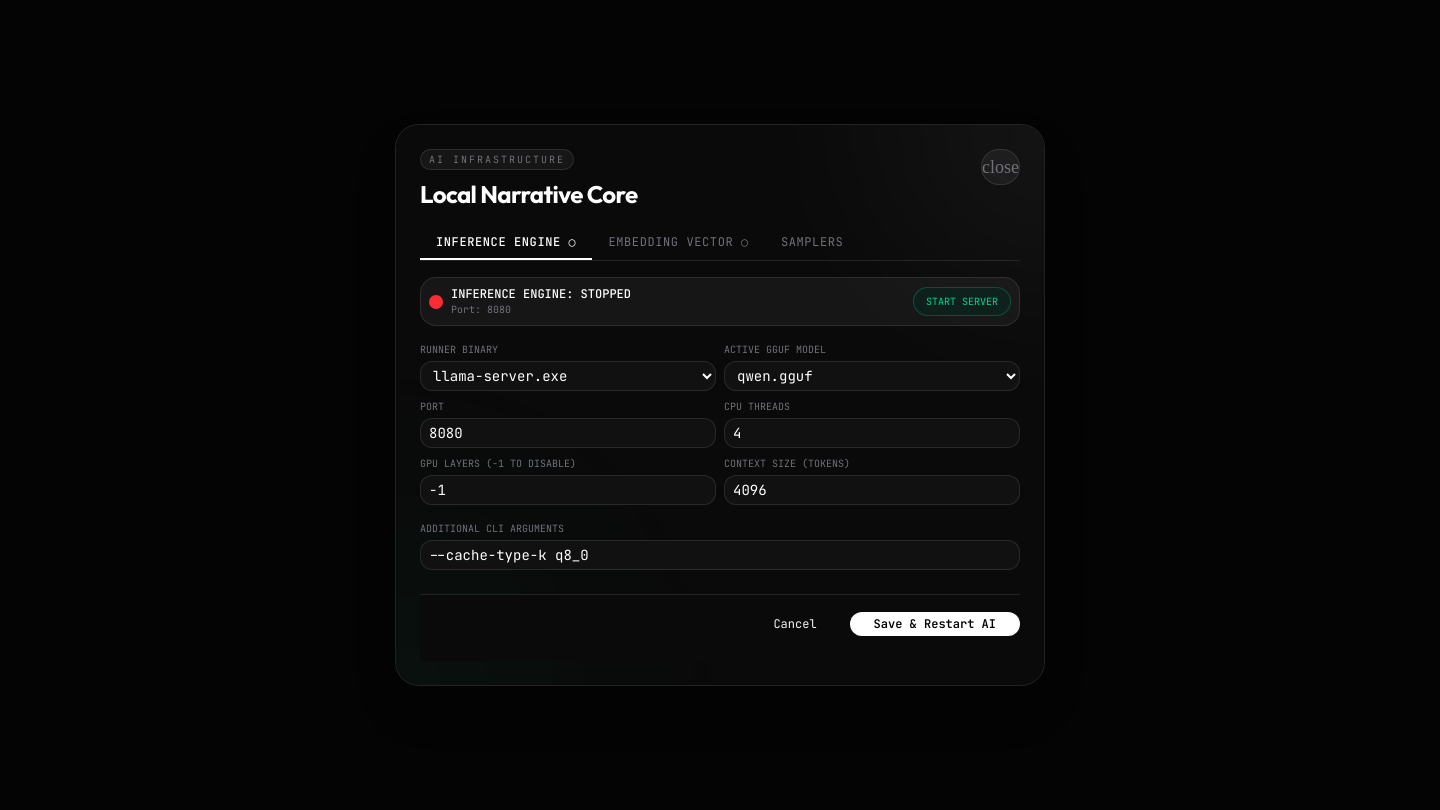
SettingsModal › Save & Restart flow › shows the backend error message when saving fails with an Error
Expected: the text "Inference Engine: STOPPED" is shown, left=451, top=286, right=631, bottom=302
Step 1. Click the button "Save & Restart AI" → (935, 624), box left=850, top=612, right=1020, bottom=636
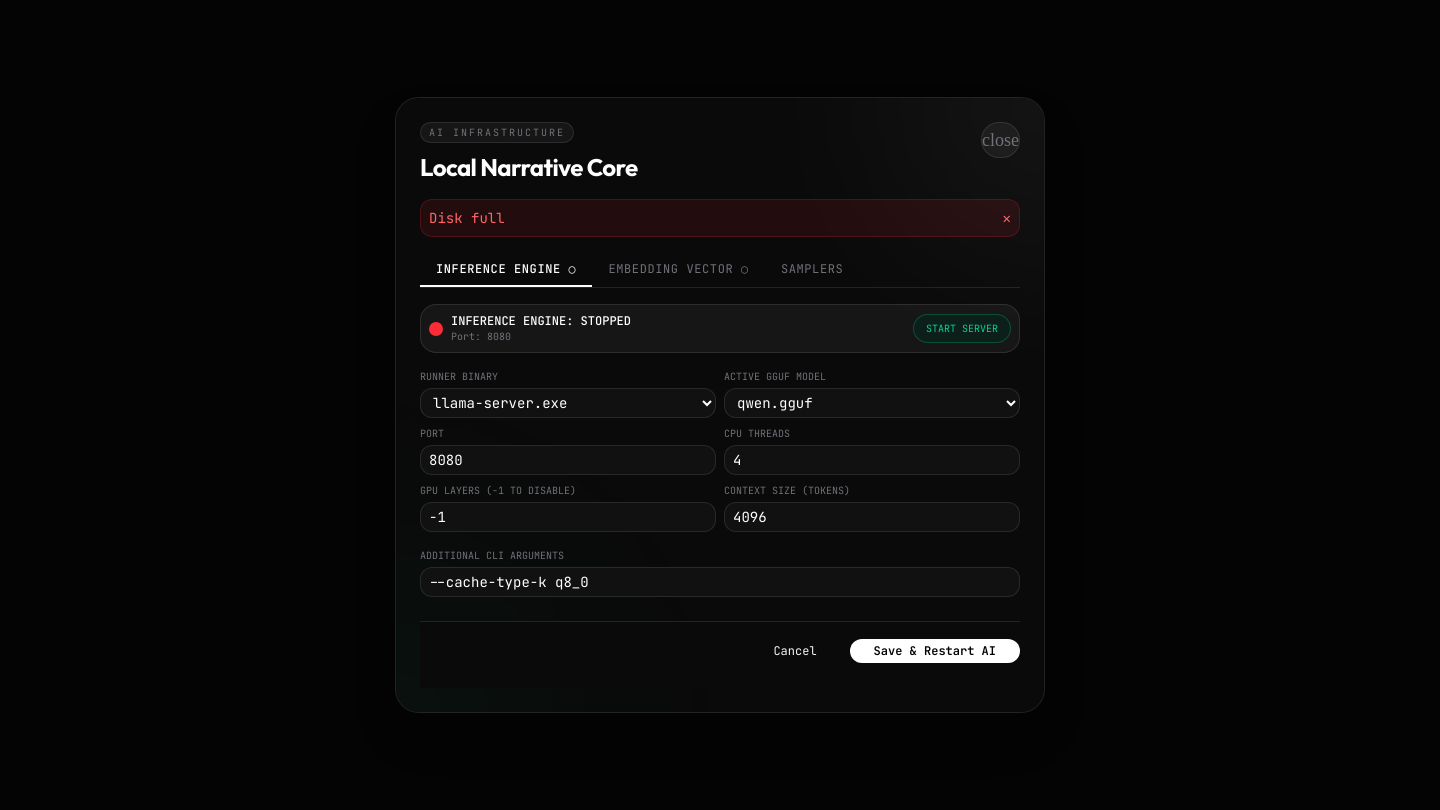
Now the text "Disk full" is shown, box left=429, top=208, right=505, bottom=228
